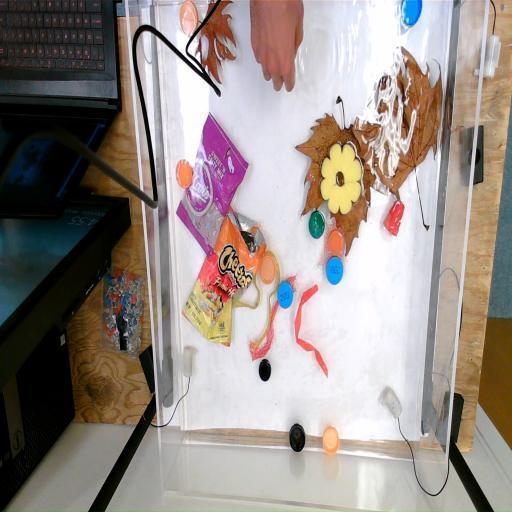Bottle Cap: (177, 2, 200, 38), (173, 158, 195, 190), (258, 252, 278, 286), (289, 420, 307, 457), (401, 0, 425, 27), (322, 425, 342, 457), (274, 281, 294, 312), (326, 230, 346, 260), (325, 256, 345, 286), (308, 208, 326, 241), (258, 356, 274, 386)
Cone Cap: (382, 197, 408, 238)
Leaf: (360, 42, 445, 236), (288, 94, 388, 255), (195, 0, 243, 86)
Netting: (246, 273, 300, 366), (318, 221, 350, 276)
Plastic Bag: (182, 205, 266, 353), (176, 114, 250, 260)
Plastic Strand: (233, 256, 282, 353), (293, 280, 330, 382)
Sponge: (318, 140, 365, 215)
